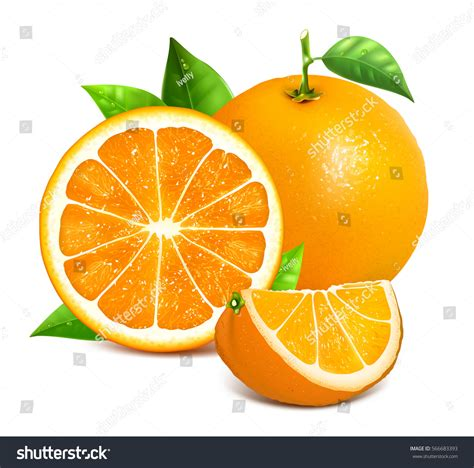orange: (211, 70, 432, 290)
